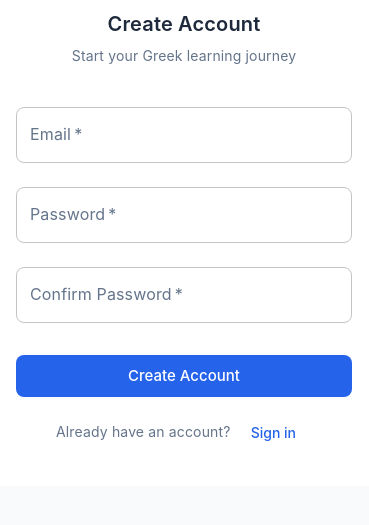
RegisterForm Component › displays error on failed registration
Type "test@example.com" into the field labelled "Email *" at (184, 135), box [16,107,352,163]
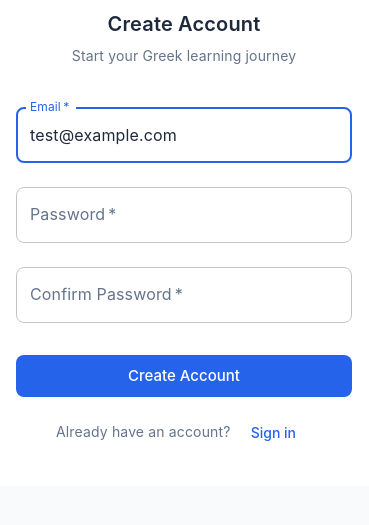
Type "password123" into the password field labelled "Password *" at (184, 215), box [16,187,352,243]
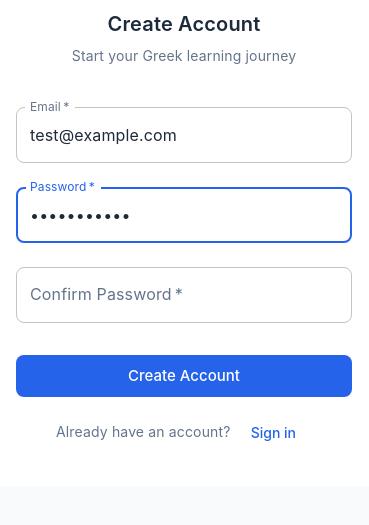
Type "password123" into the password field labelled "Confirm Password *" at (184, 295), box [16,267,352,323]
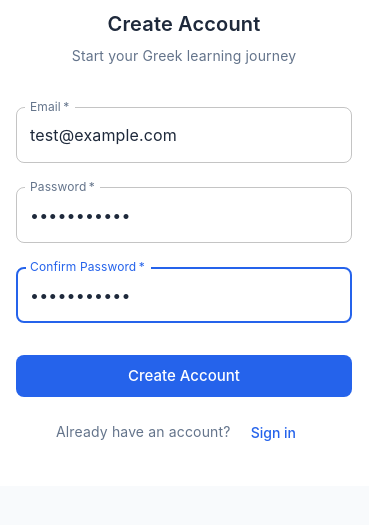
Click the button "Create Account" at (184, 376), box [16,355,352,397]
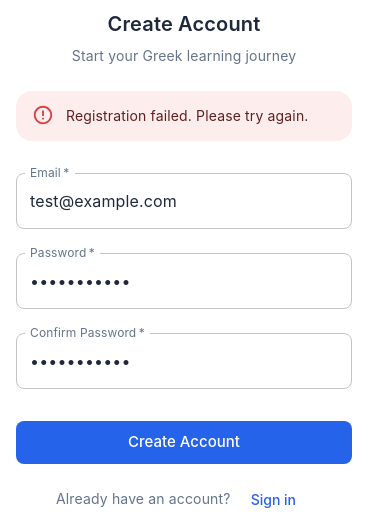
expect the text "Registration failed. Please try again." is shown: met, box [66,107,308,124]
